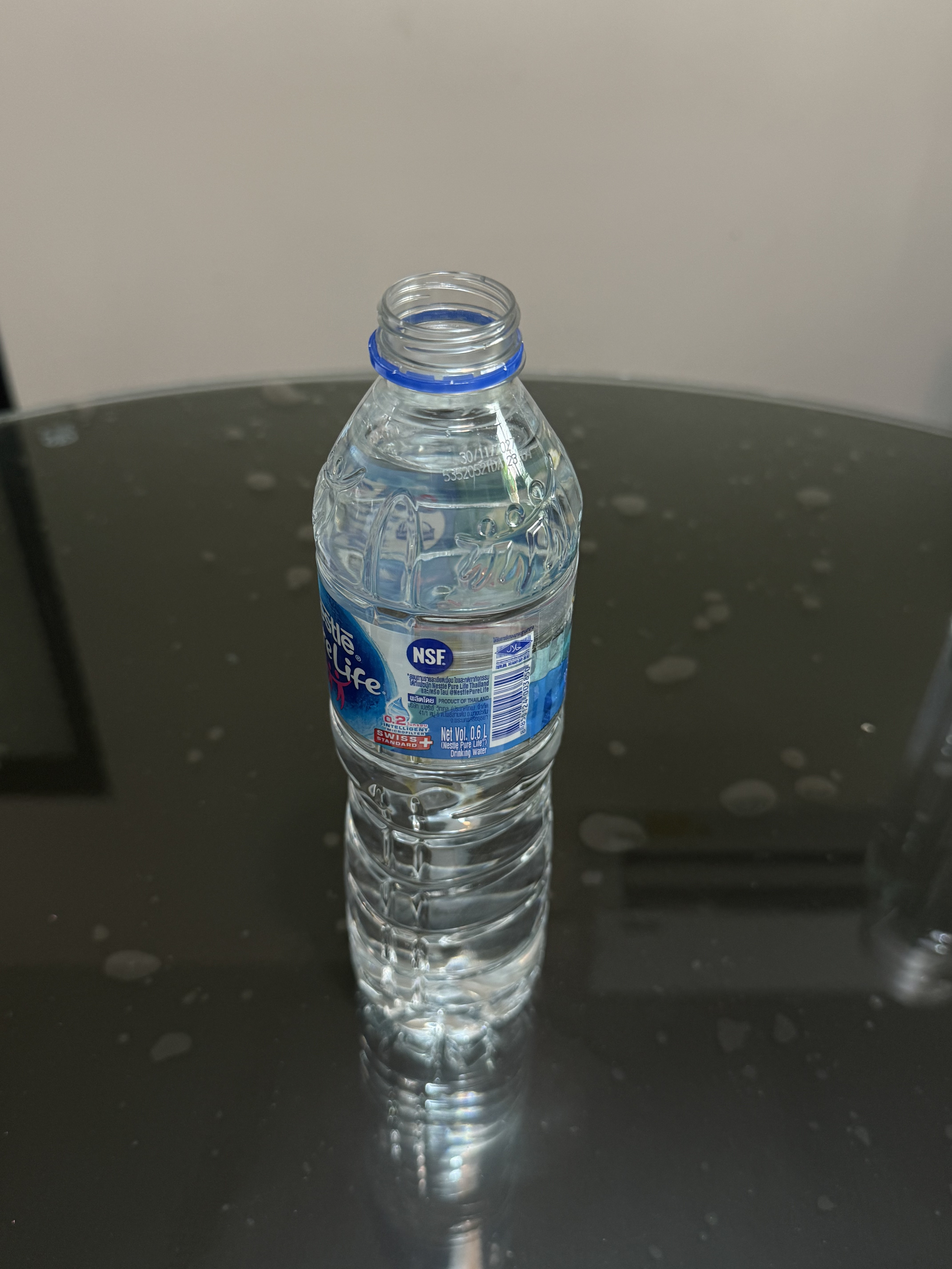no_cap: (363, 264, 530, 396)
